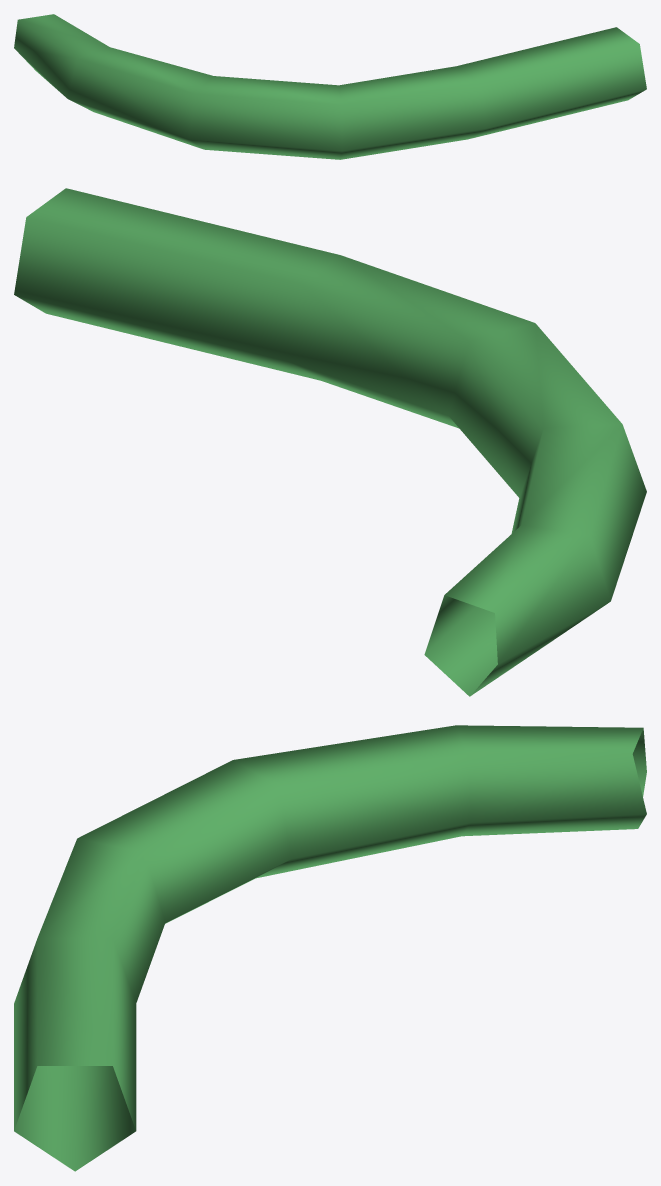
The model's file is PipeL_1.fbx.
3 views of the same model, one above another, from view 1: azimuth 30°, elevation 25°; view 2: azimuth 150°, elevation 25°; view 3: azimuth 270°, elevation 25° (orthographic). The views are drawn at different scales.
Visible parts, largest first — view 1: PipeL_1; view 2: PipeL_1; view 3: PipeL_1.
Part boxes in pixels (left/top/right/bottom): PipeL_1: left=14, top=14, right=646, bottom=159; PipeL_1: left=14, top=188, right=646, bottom=696; PipeL_1: left=14, top=725, right=646, bottom=1171.
Size of the model in its own units: 108 by 15.07 by 81.81.
